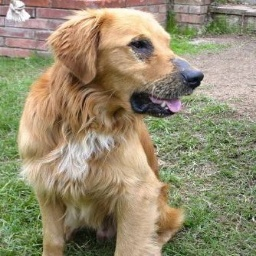dog: (21, 5, 205, 256)
